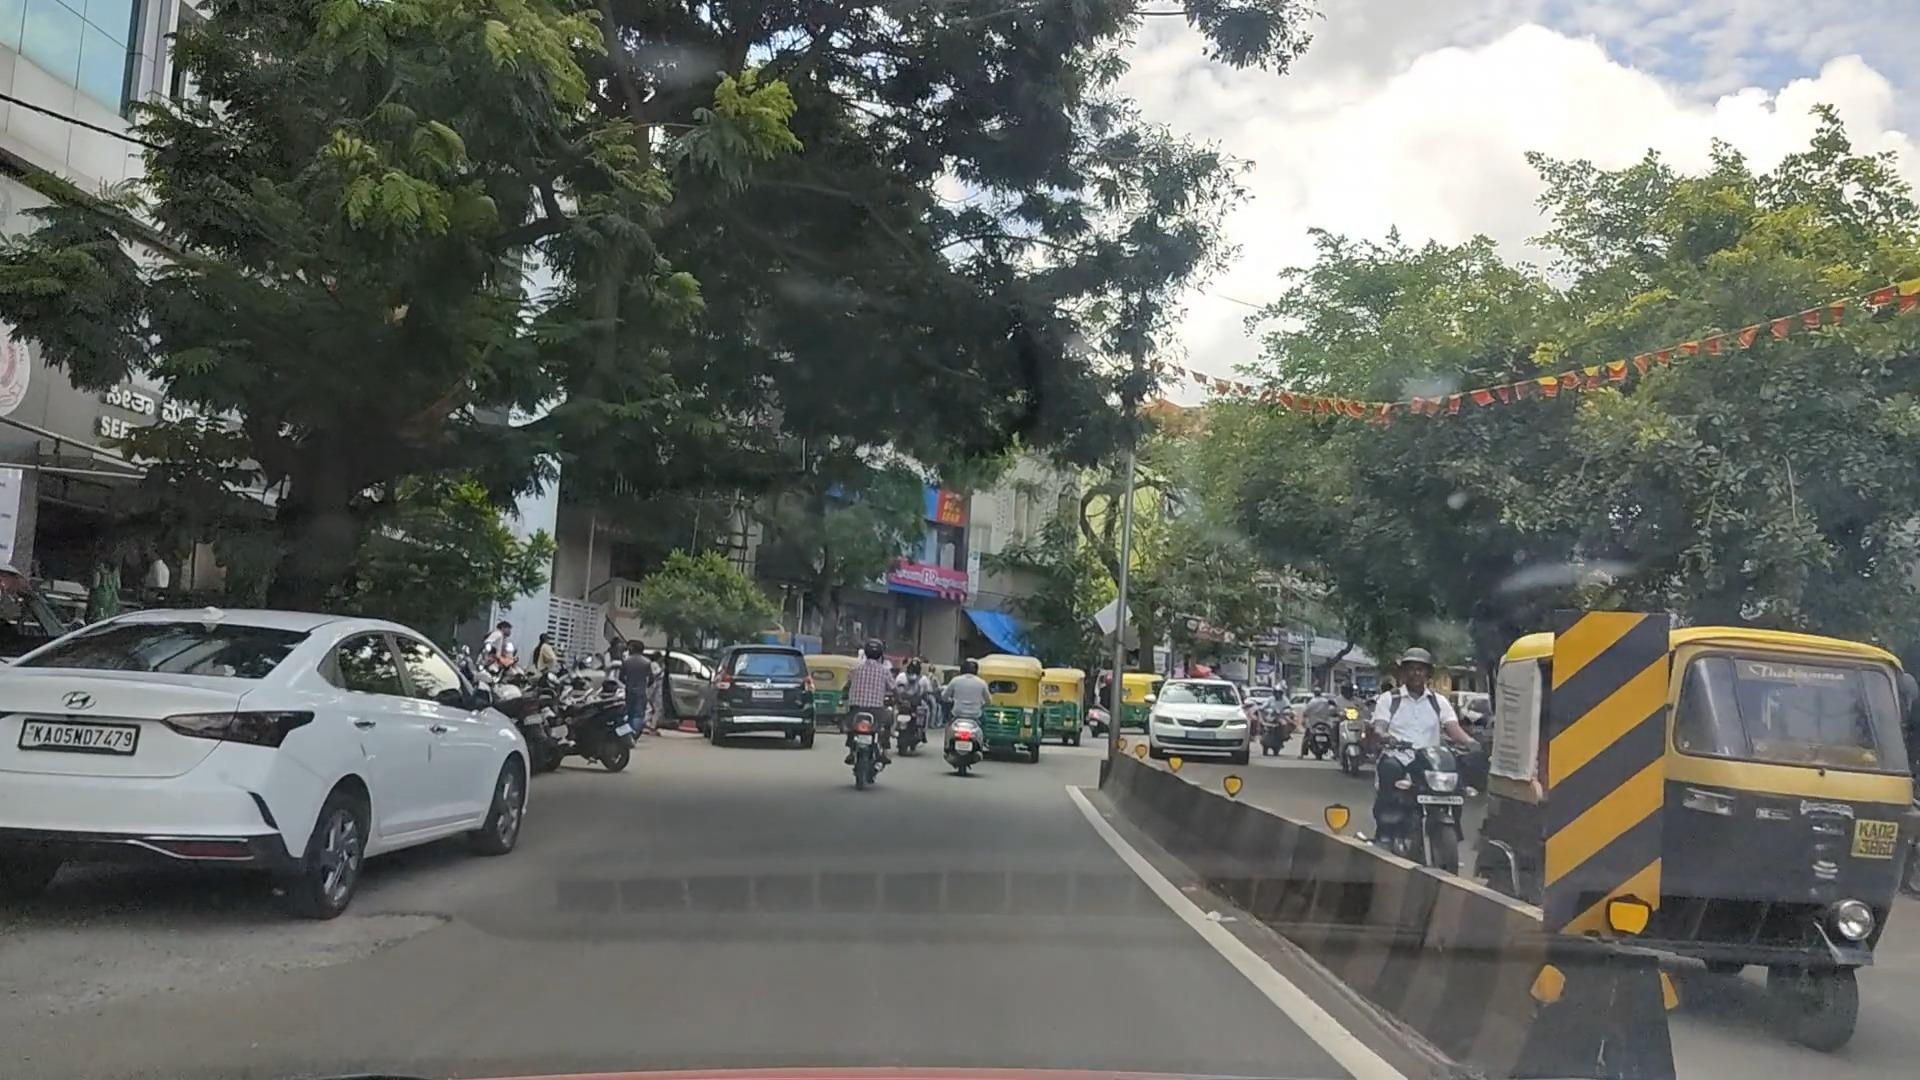LMV: (22, 593, 537, 890), (820, 628, 939, 819)
RoadDamages: (66, 909, 451, 1055)
